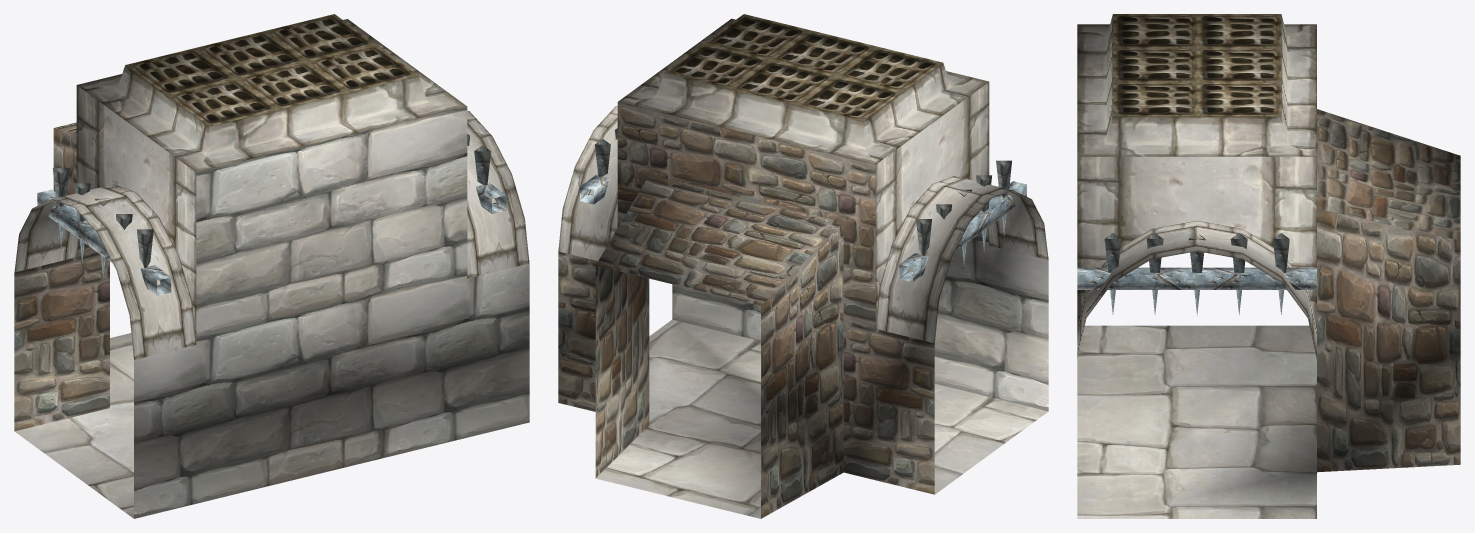
File: stormwind_053.fbx
3 renders of one model, left to right at view 1: azimuth 30°, elevation 25°; view 2: azimuth 150°, elevation 25°; view 3: azimuth 270°, elevation 25°, orthographic. The views are drawn at different scales.
Parts seen in each view (by area): view 1: stormwind_053_39, stormwind_053_40, stormwind_053_81, stormwind_053_38, stormwind_053_52, stormwind_053_82; view 2: stormwind_053_38, stormwind_053_40, stormwind_053_52, stormwind_053_39, stormwind_053_81, stormwind_053_82; view 3: stormwind_053_38, stormwind_053_52, stormwind_053_40, stormwind_053_81, stormwind_053_82.
Part boxes in pixels (x1,y1,x2,y2): stormwind_053_39: (134,106,529,518); stormwind_053_40: (14,19,529,359); stormwind_053_81: (125,14,418,126); stormwind_053_38: (14,122,109,431); stormwind_053_52: (15,333,133,518); stormwind_053_82: (37,134,506,295); stormwind_053_38: (558,102,934,518); stormwind_053_40: (558,18,1048,343); stormwind_053_52: (596,319,1048,518); stormwind_053_39: (672,228,1048,411); stormwind_053_81: (664,14,942,120); stormwind_053_82: (580,128,1026,282); stormwind_053_38: (1317,109,1460,472); stormwind_053_52: (1077,325,1316,518); stormwind_053_40: (1077,14,1316,358); stormwind_053_81: (1113,14,1281,116); stormwind_053_82: (1077,233,1316,315).
Size of the model in its own units: 7.68 by 6.62 by 6.44.
